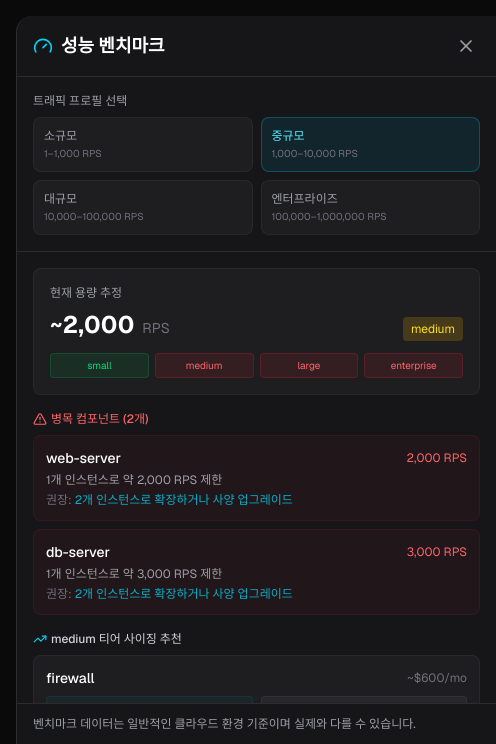
it: BenchmarkPanel › should switch tier when clicked
Click the text "대규모" at {"x": 61, "y": 199}, box [44,191,77,207]
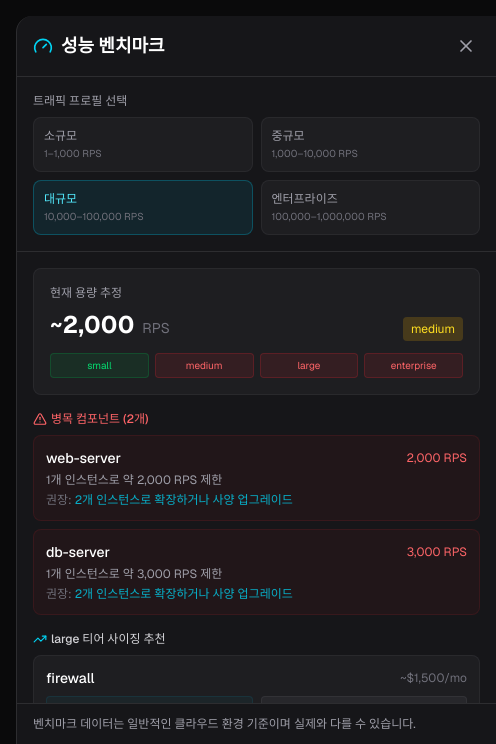
Expected: the heading "large 티어 사이징 추천" is shown, [33,631,166,647]
